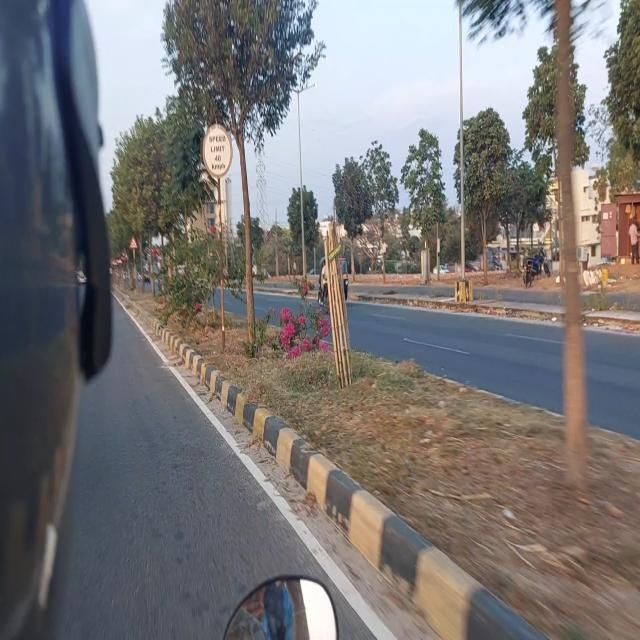bien_nguy_hiem: (202, 124, 234, 176)
